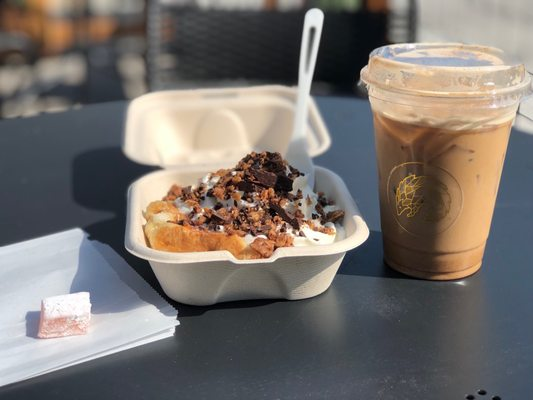salad: (287, 7, 329, 168)
sushi: (124, 150, 371, 308)
